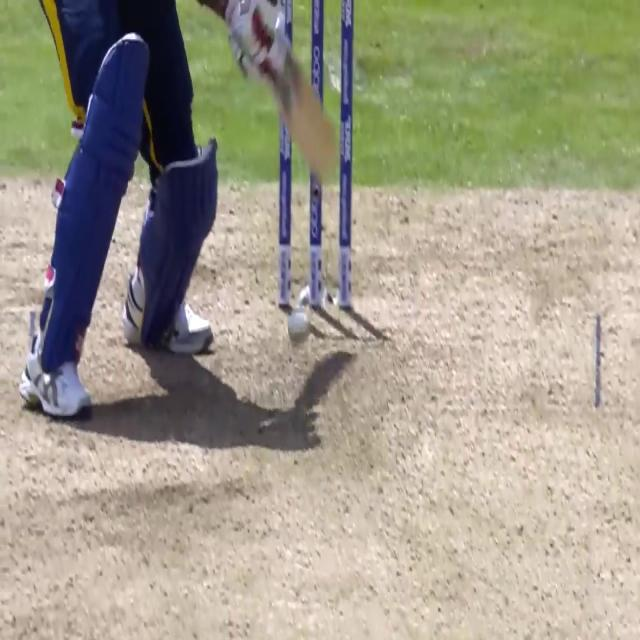ball: (286, 308, 311, 350)
